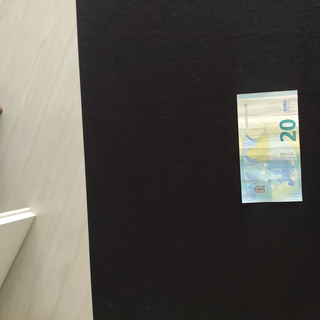20EUROBack: (236, 90, 303, 203)
